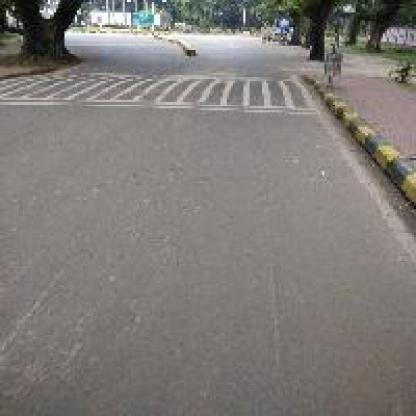Speed Bump: (0, 66, 318, 116)
